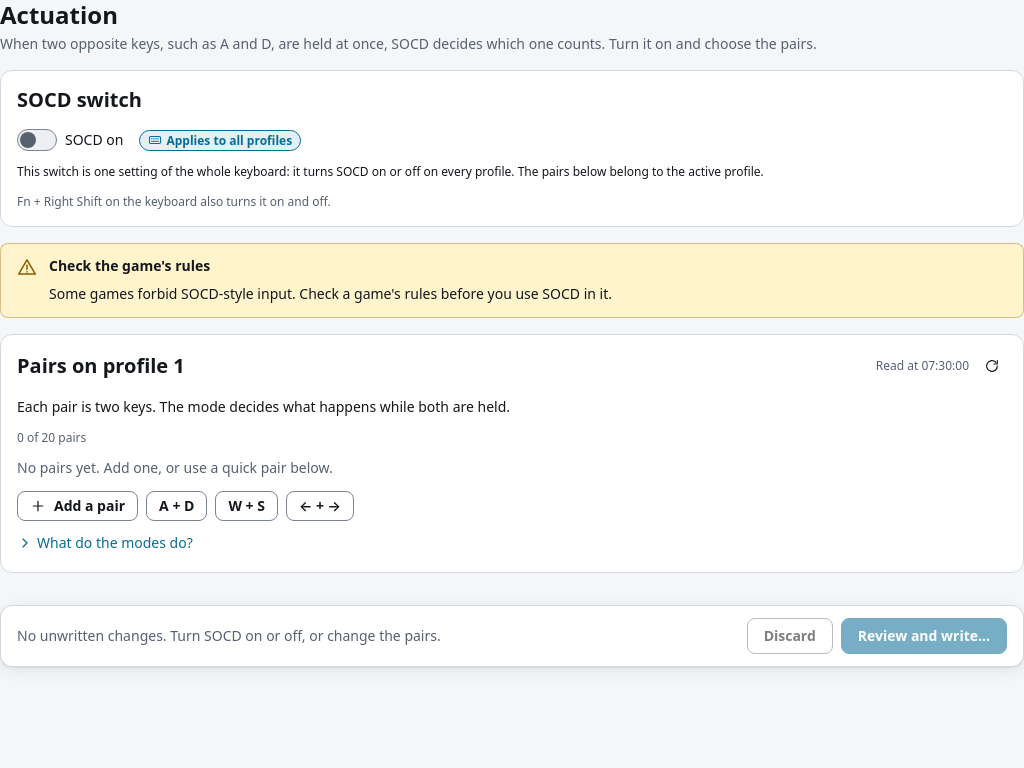
Test: the write flow › discards the plan on Cancel and keeps the draft
Click the switch named "SOCD on".
click(37, 140)  # box x1=17 y1=129 x2=57 y2=151
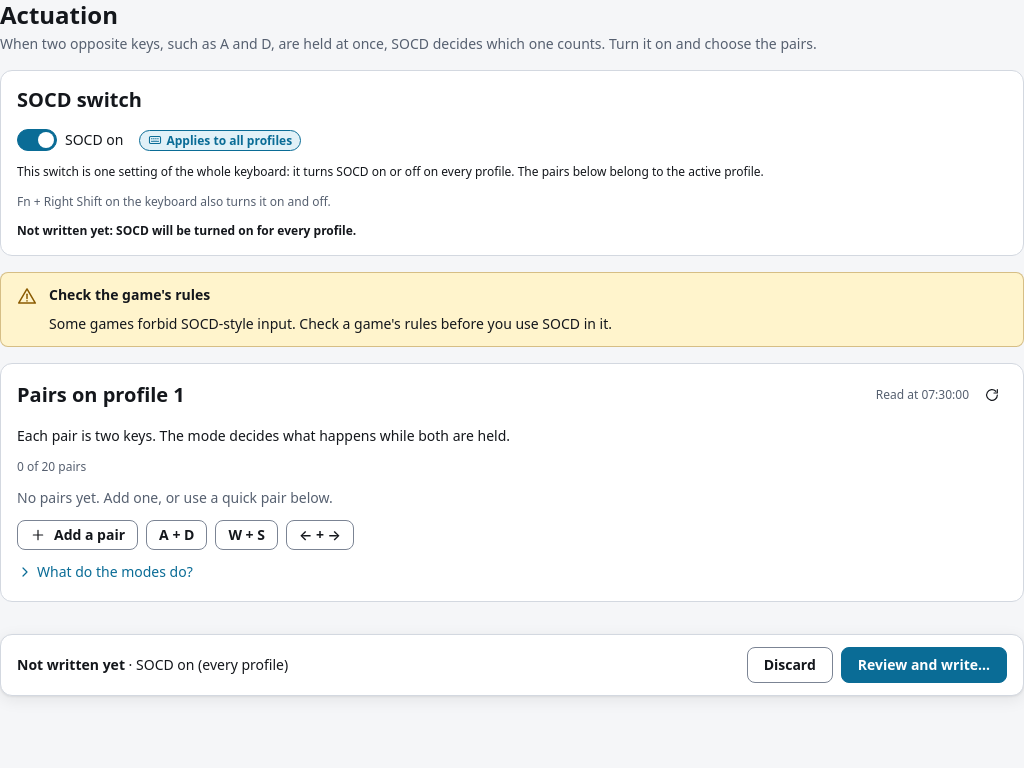
Click the button "Review and write…".
click(924, 666)  # box x1=841 y1=648 x2=1007 y2=684
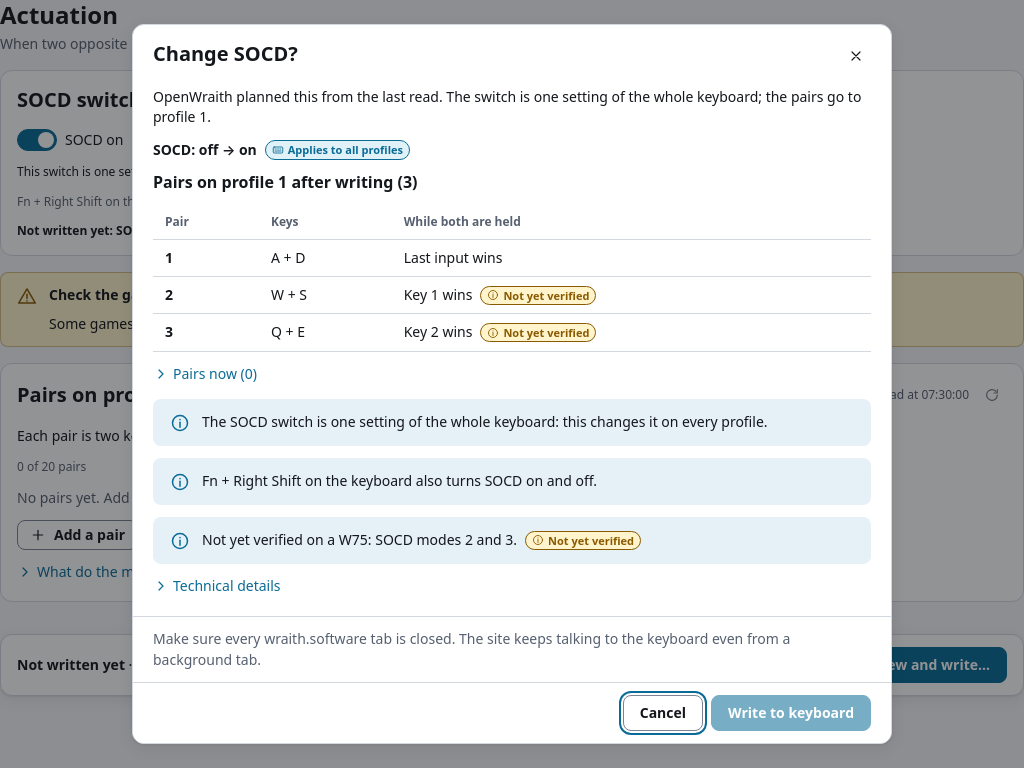
Expected: the heading "Change SOCD?" is shown, x1=153 y1=41 x2=298 y2=67
Click the button "Cancel".
click(663, 713)  # box x1=623 y1=695 x2=703 y2=731
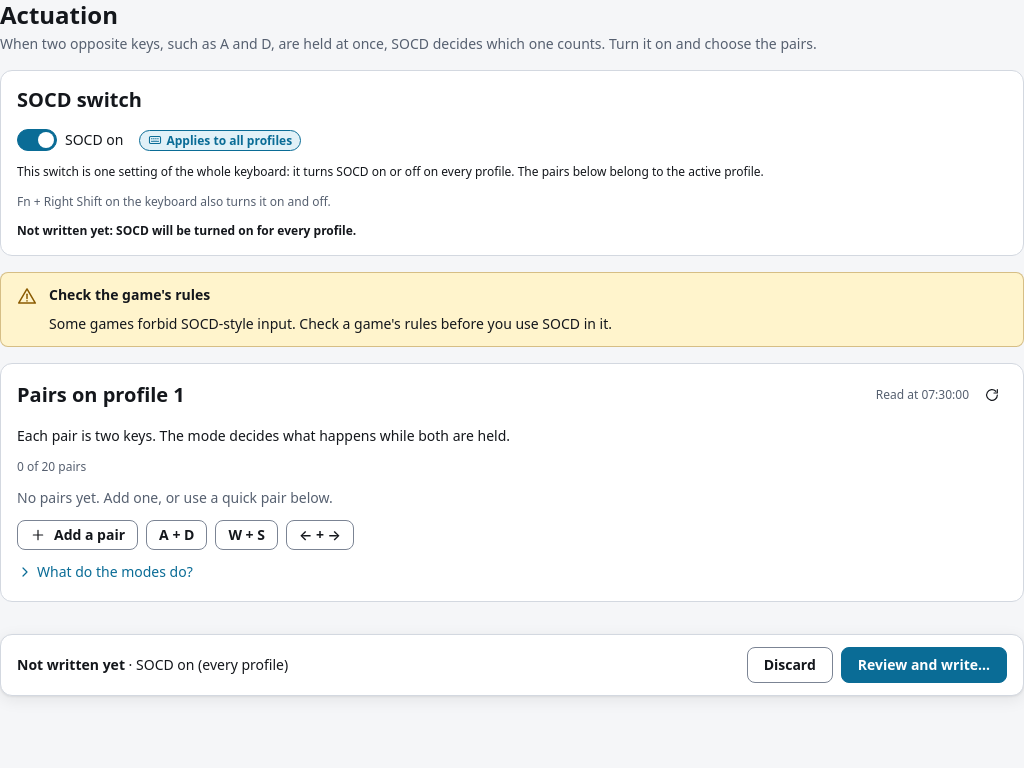
Expected: the text "Not written yet: SOCD will be turned on for every profile." is shown, x1=17 y1=222 x2=356 y2=239
Expected: the dialog is gone
